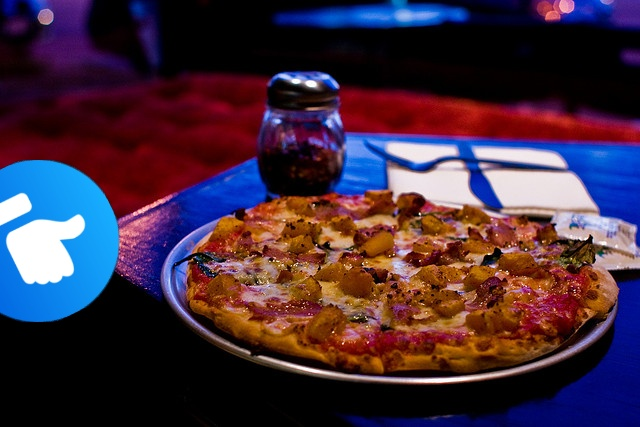like: (0, 160, 119, 322)
